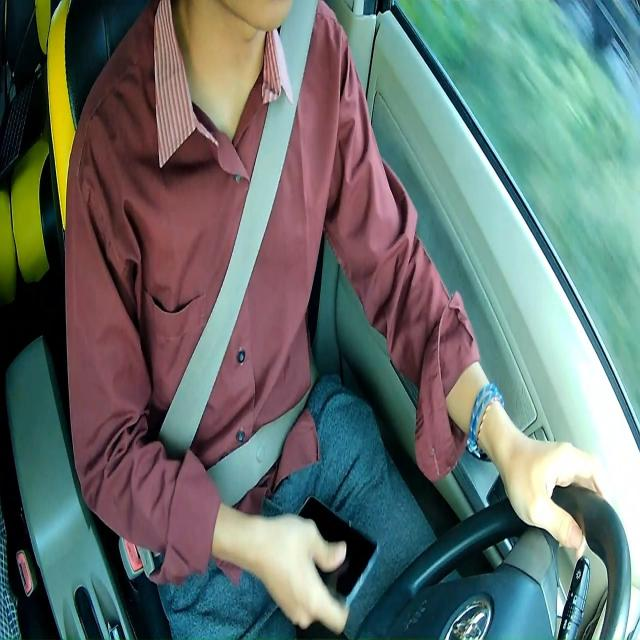phone: (297, 490, 380, 606)
